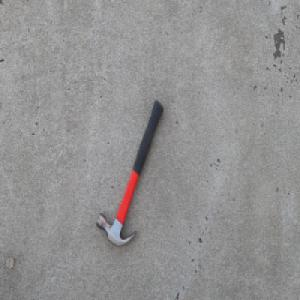Hammer: (95, 99, 164, 248)
